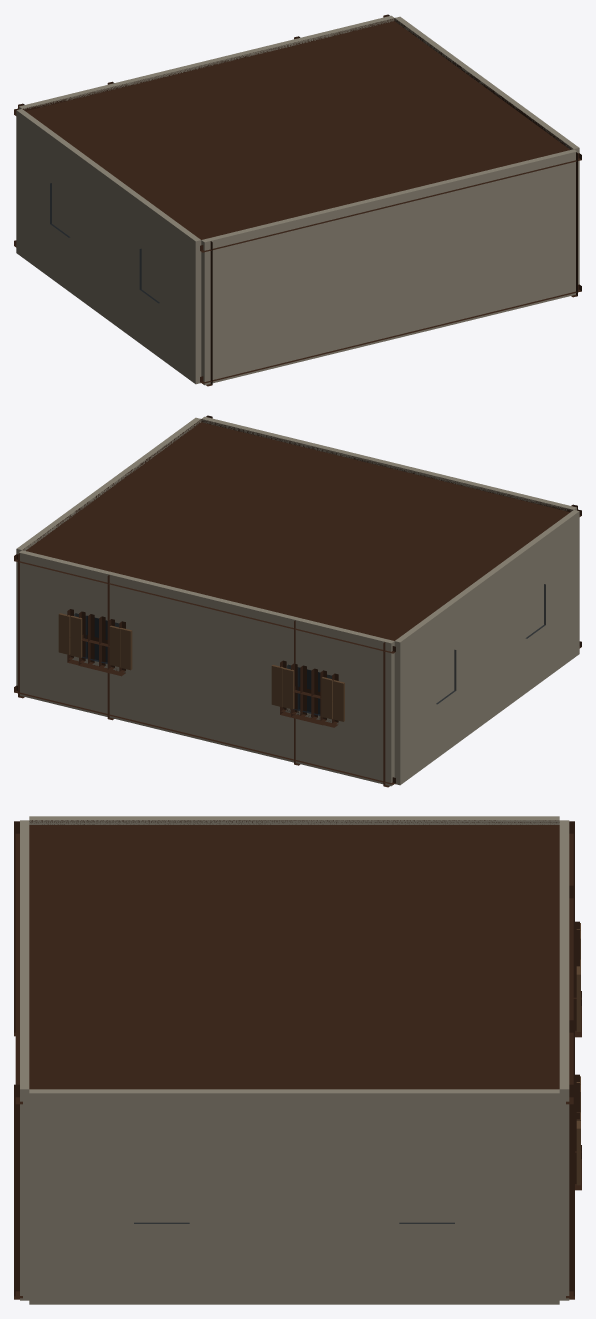
The model's file is GalakasMidCity_UPR_W06D05_PlasterInn_01.obj.
3 views of the same model, one above another, from view 1: azimuth 30°, elevation 25°; view 2: azimuth 150°, elevation 25°; view 3: azimuth 270°, elevation 25° (orthographic). The views are drawn at different scales.
Visible parts, largest first — view 1: upper_ceiling_cap, upper_back_wall, upper_left_wall, upper_front_wall, upper_right_wall, upper_back_course_422, upper_back_course_18; view 2: upper_ceiling_cap, upper_front_wall, upper_left_wall, upper_back_wall, upper_right_wall, upper_front_course_422, upper_front_course_18, upper_front_window_1_shutter_l, upper_front_window_1_shutter_r, upper_upper_front_window_1_shutter_r, upper_upper_front_window_0_shutter_r, upper_front_window_0_shutter_l (+3 smaller); view 3: upper_ceiling_cap, upper_right_wall, upper_front_wall, upper_back_wall, upper_left_wall, upper_back_course_422, upper_front_post_5_9, upper_back_post_5_9, upper_front_course_422.
Part boxes in pixels (x1,y1,x2,y2): upper_ceiling_cap: (22,18,571,239); upper_back_wall: (201,149,576,385); upper_left_wall: (16,109,201,384); upper_front_wall: (19,15,394,109); upper_right_wall: (394,16,579,284); upper_back_course_422: (200,153,581,252); upper_back_course_18: (200,284,581,383); upper_ceiling_cap: (23,419,572,640); upper_front_wall: (19,550,394,786); upper_left_wall: (394,510,579,785); upper_back_wall: (201,416,576,511); upper_right_wall: (16,417,201,685); upper_front_course_422: (14,554,395,653); upper_front_course_18: (14,685,395,784); upper_front_window_1_shutter_l: (120,628,132,670); upper_front_window_1_shutter_r: (70,616,82,657); upper_upper_front_window_1_shutter_r: (58,613,70,654); upper_upper_front_window_0_shutter_r: (282,668,294,709); upper_front_window_0_shutter_l: (321,677,333,719); upper_ceiling_cap: (29,820,559,1089); upper_right_wall: (29,1089,559,1304); upper_front_wall: (559,820,569,1300); upper_back_wall: (20,820,29,1300); upper_left_wall: (29,816,559,824); upper_back_course_422: (15,833,22,1104); upper_front_post_5_9: (569,1084,574,1299); upper_back_post_5_9: (14,1084,19,1299); upper_front_course_422: (566,833,573,1104).
Bounding box in the file's own units: 12.48 × 4.4 × 10.71.
